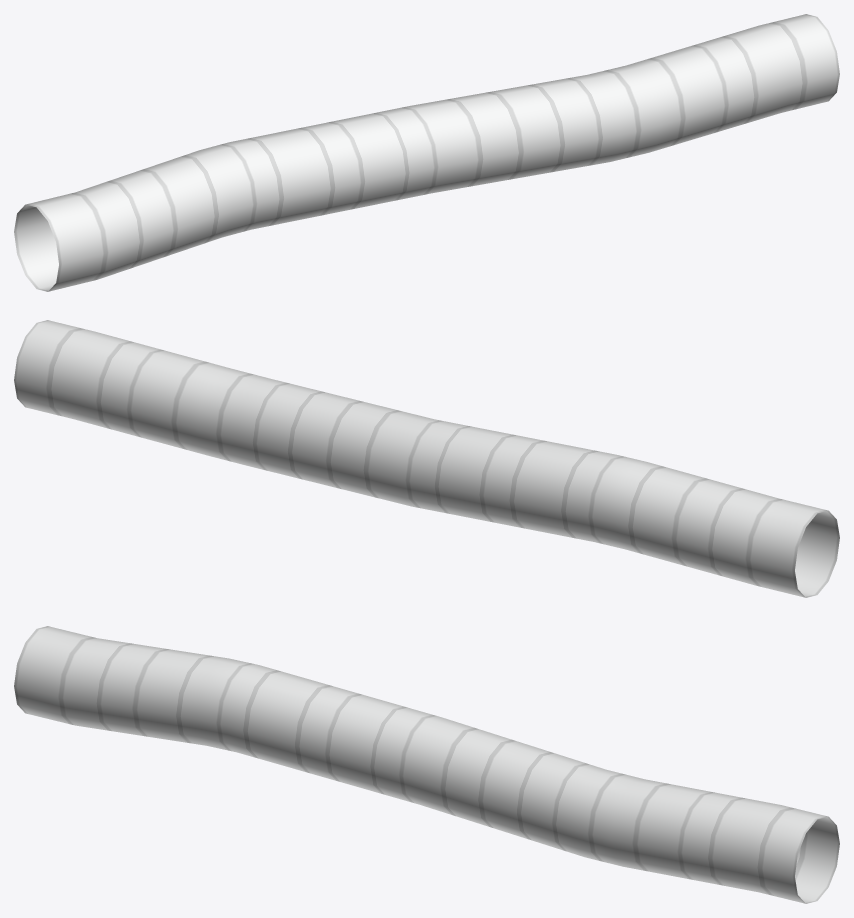
File: Prop_21_Foil_Pipe.fbx
3 renders of one model, top to bottom at view 1: azimuth 30°, elevation 25°; view 2: azimuth 150°, elevation 25°; view 3: azimuth 330°, elevation 25°, orthographic.
Parts seen in each view (by area): view 1: Prop_21_Foil_Pipe; view 2: Prop_21_Foil_Pipe; view 3: Prop_21_Foil_Pipe.
Part boxes in pixels (x1=…): Prop_21_Foil_Pipe: x1=14, y1=14, x2=839, y2=291; Prop_21_Foil_Pipe: x1=14, y1=320, x2=839, y2=597; Prop_21_Foil_Pipe: x1=14, y1=626, x2=839, y2=903.
Bounding box in the file's own units: 2 × 0.2348 × 0.2309.
